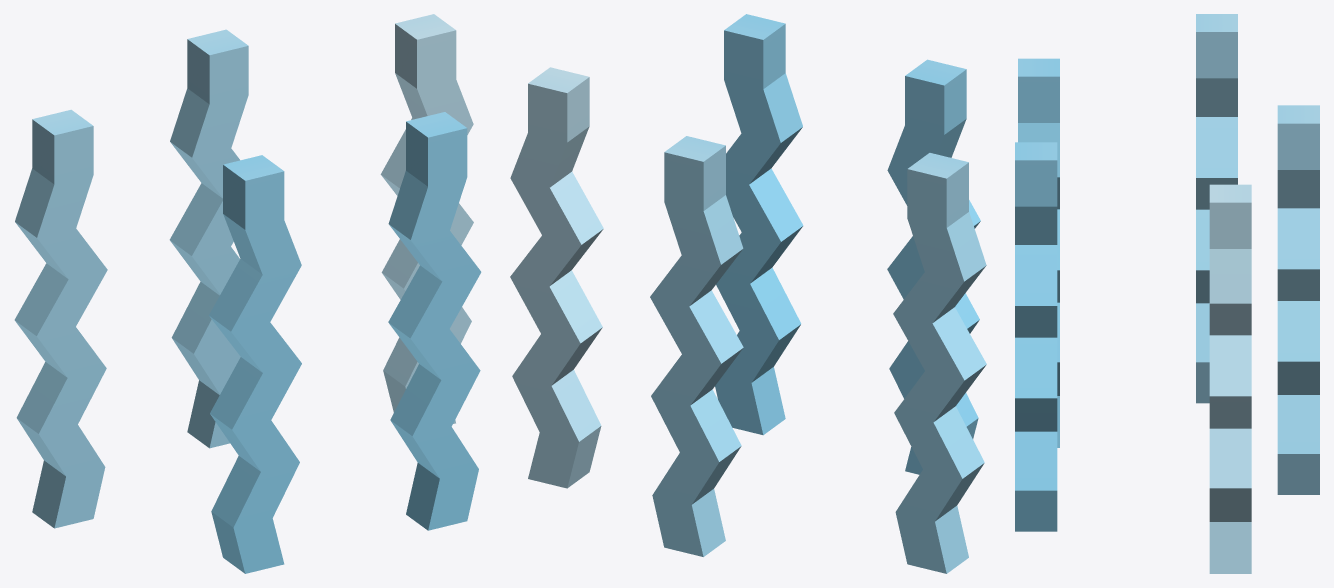
File: jellyfish_.oralarmobj.obj
The picture shows the model from 3 angles, left to right: view 1: azimuth 30°, elevation 25°; view 2: azimuth 150°, elevation 25°; view 3: azimuth 270°, elevation 25°; orthographic projection. The views are drawn at different scales.
Visible parts, largest first — view 1: 立方体.006; view 2: 立方体.006; view 3: 立方体.006.
Part boxes in pixels (x1,y1,x2,y2): 立方体.006: (14,14,481,573); 立方体.006: (510,14,986,573); 立方体.006: (1015,14,1319,573).
Size of the model in its own units: 1.39 by 1.17 by 0.8705.
1 material, 1 textured.
